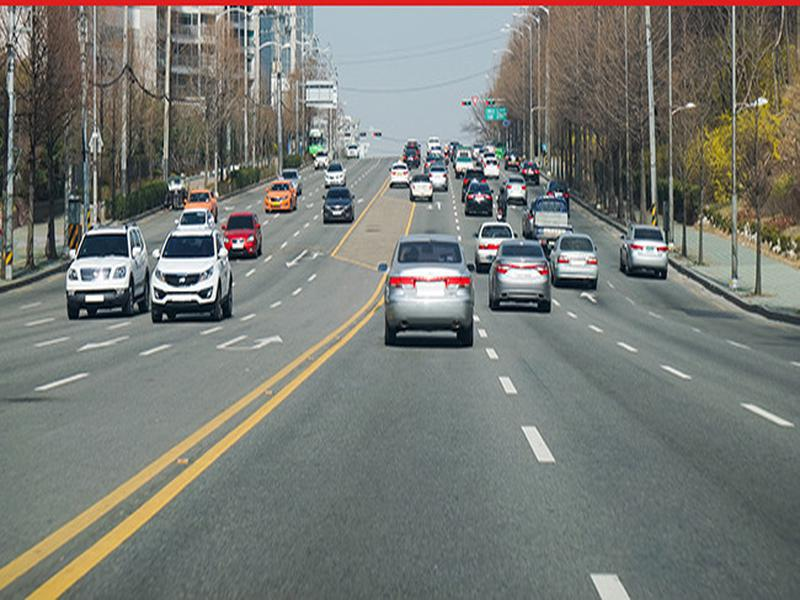car: (380, 238, 475, 343), (150, 229, 237, 319), (66, 228, 149, 314), (490, 240, 552, 311), (619, 225, 671, 277), (551, 235, 602, 285)
lane: (92, 362, 322, 558), (524, 424, 555, 467), (658, 364, 691, 379), (139, 343, 170, 357), (496, 375, 520, 393), (617, 340, 638, 352), (485, 346, 500, 361)
